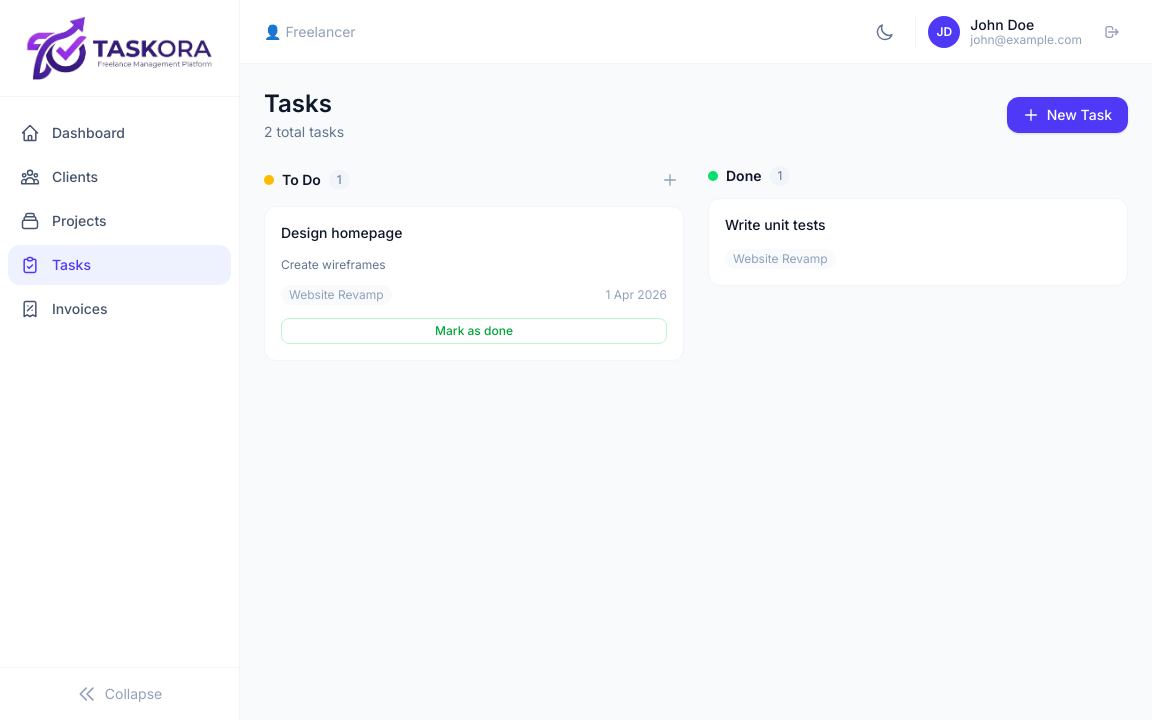
Test: Tasks Page › shows validation error when submitting empty task form
Step 1. Click the button "New Task" → (1068, 115), box left=1007, top=97, right=1128, bottom=133
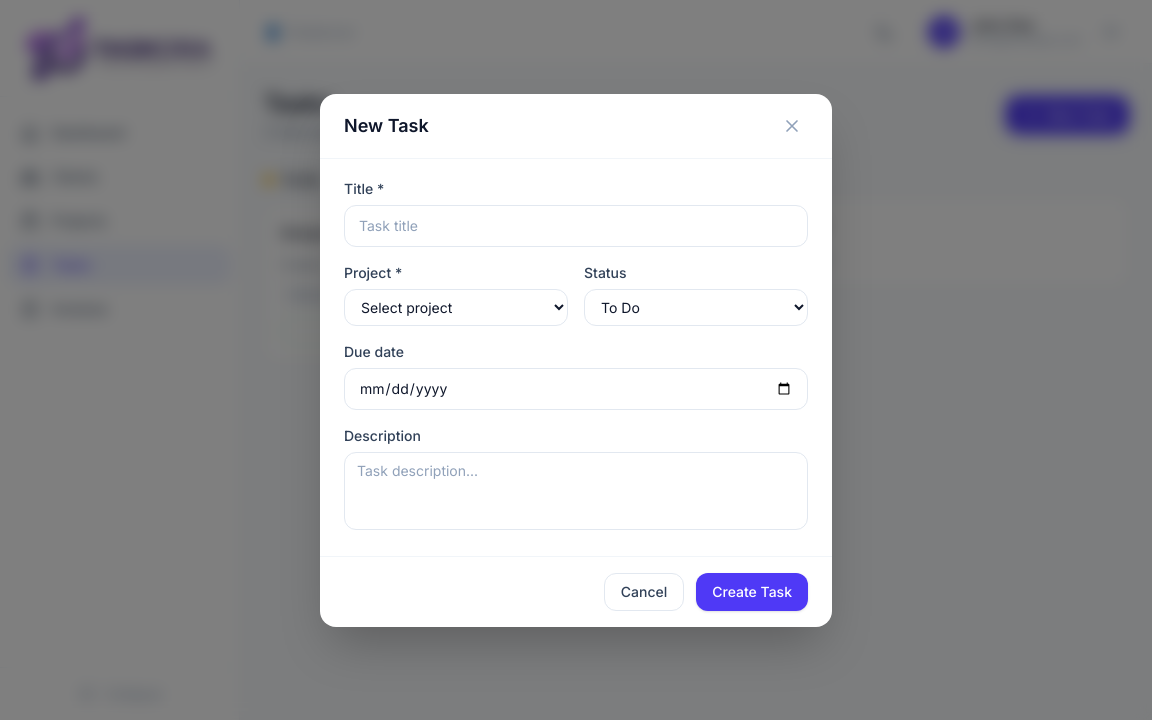
Step 2. Click the button "Create Task" → (752, 592), box left=696, top=573, right=808, bottom=611
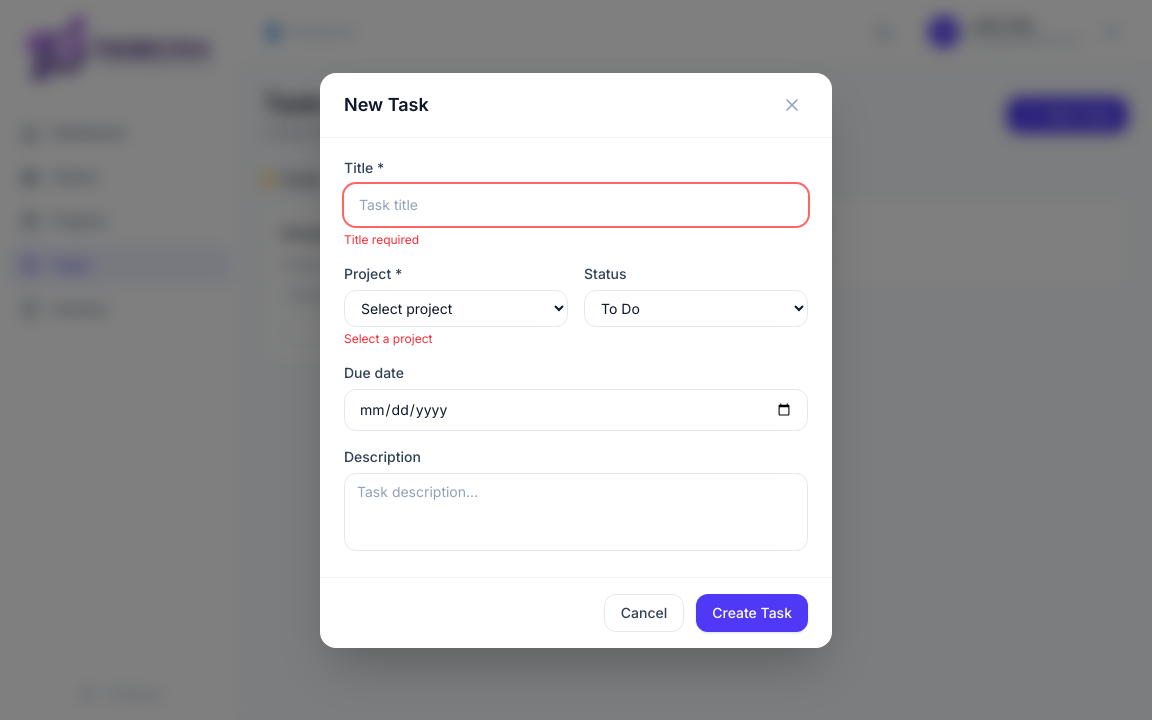
Result: the text "Title required" is shown at left=344, top=232, right=419, bottom=246
